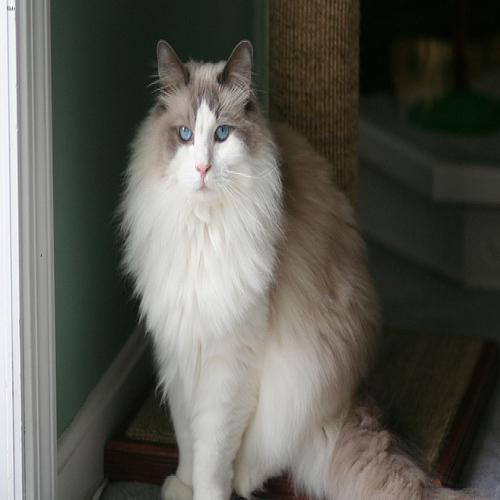ragdoll: (144, 28, 267, 233)
